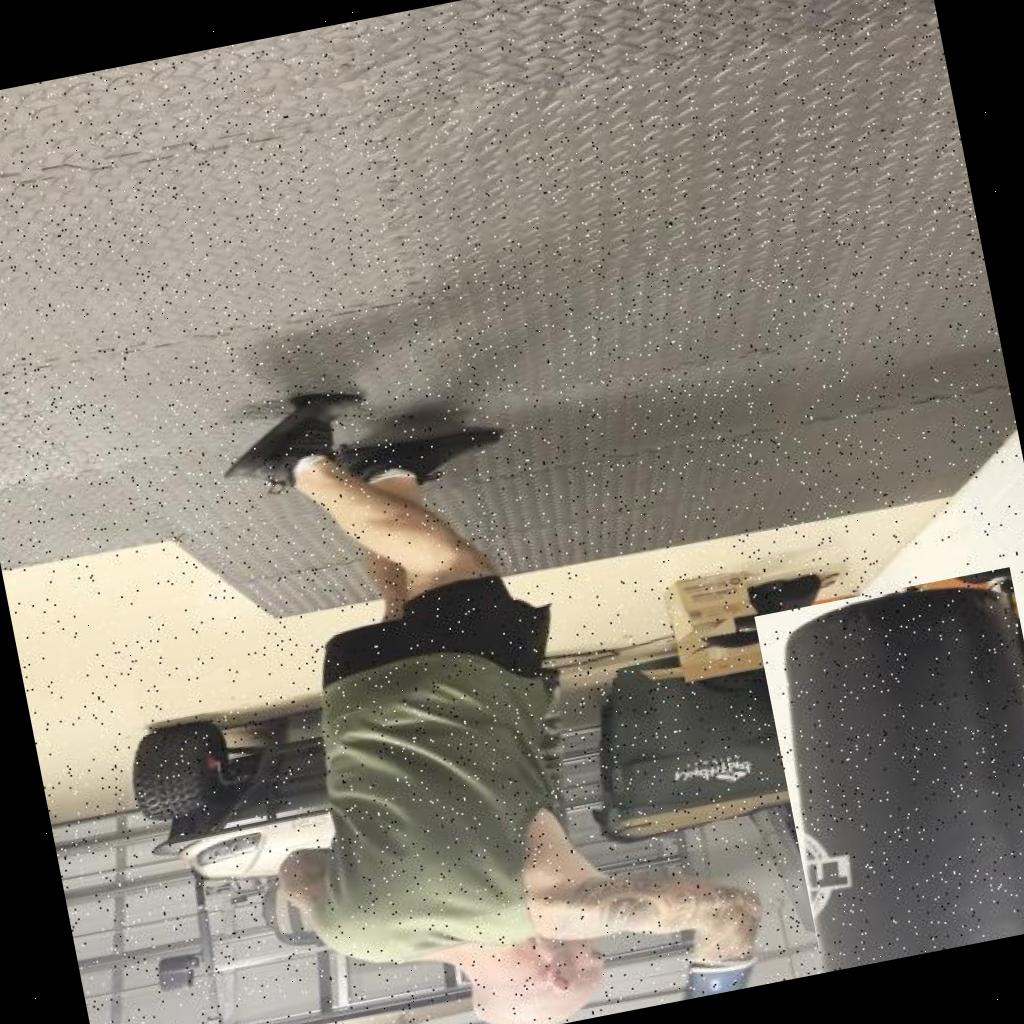bag: (754, 567, 1024, 973)
uppercut: (334, 773, 785, 1024)
